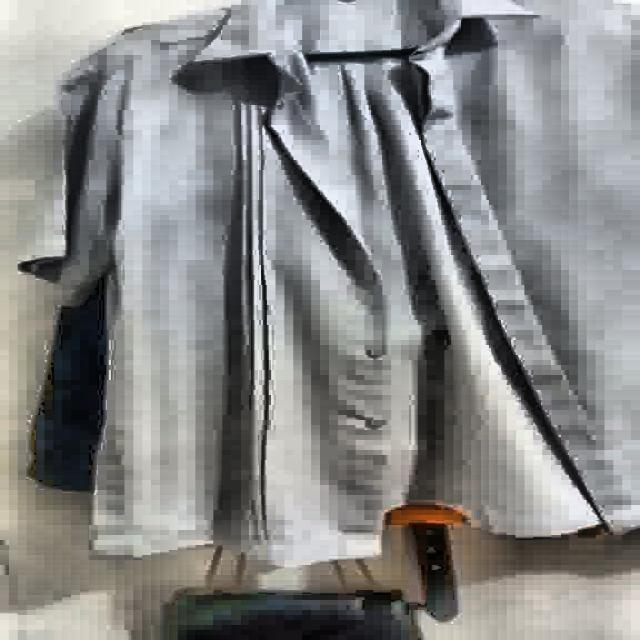clothes: (25, 0, 634, 579)
